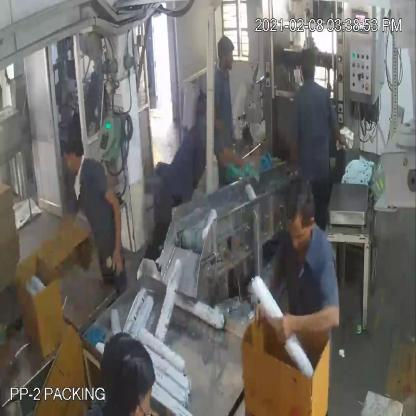glove: (215, 144, 256, 197)
no_glove: (272, 292, 342, 366), (102, 182, 132, 273)
